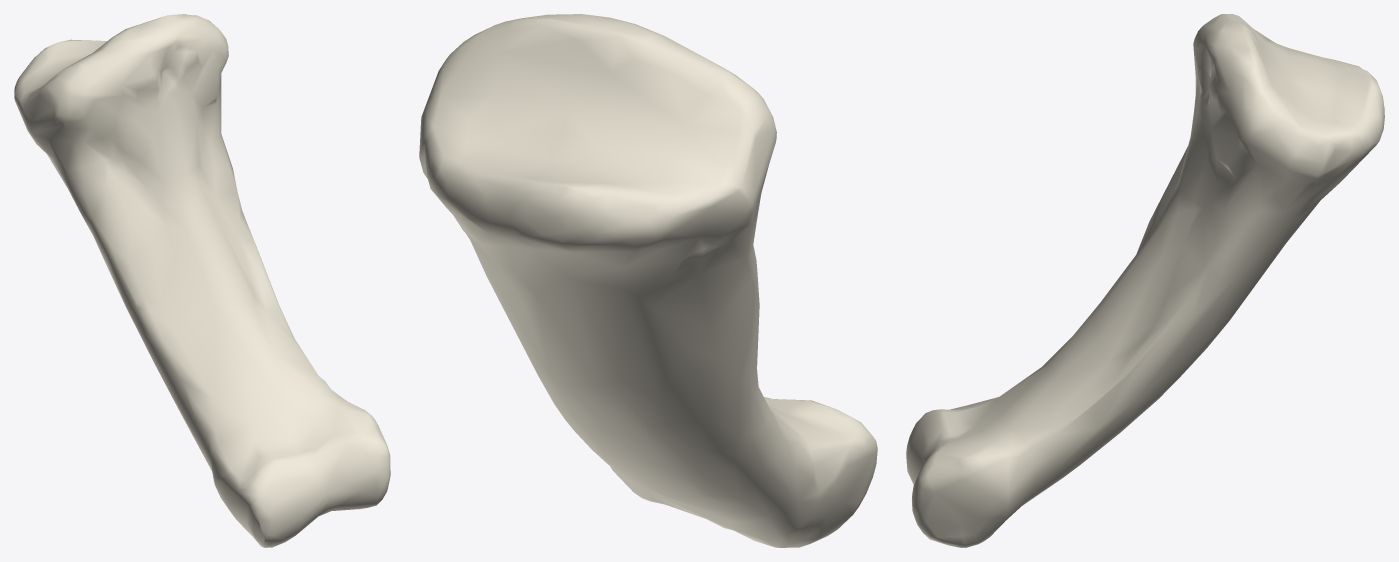
Rendered from fma23940.glb.
The picture shows the model from 3 angles, left to right: view 1: azimuth 30°, elevation 25°; view 2: azimuth 150°, elevation 25°; view 3: azimuth 270°, elevation 25°; orthographic projection. The views are drawn at different scales.
Visible parts, largest first — view 1: FMA23940; view 2: FMA23940; view 3: FMA23940.
Boxes of the visible parts, x1=… form: FMA23940: x1=14, y1=14, x2=390, y2=547; FMA23940: x1=419, y1=14, x2=877, y2=547; FMA23940: x1=906, y1=14, x2=1384, y2=547.
Bounding box in the file's own units: 0.0138 × 0.0255 × 0.0232.
